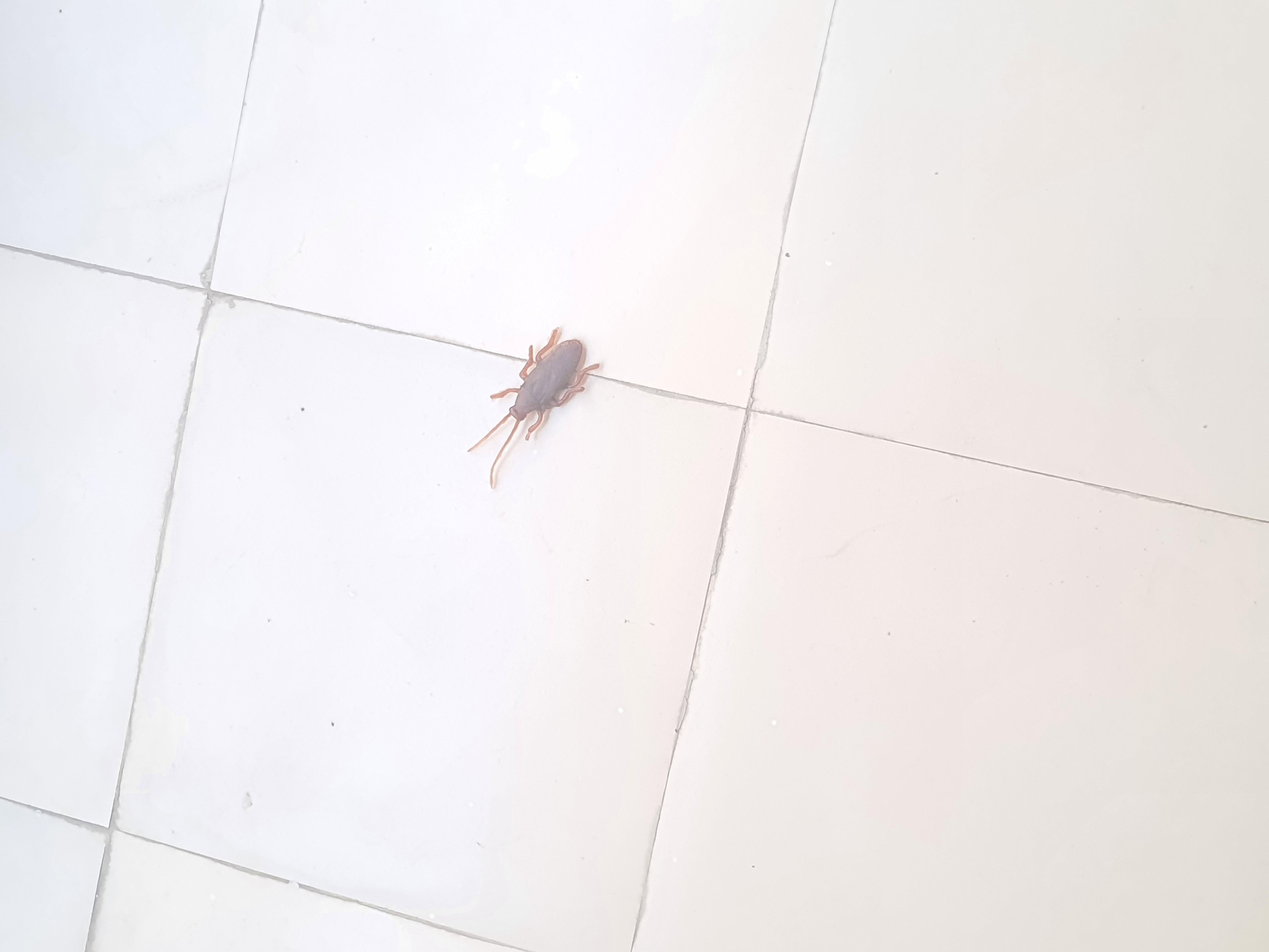cockroach: (598, 342, 832, 453)
